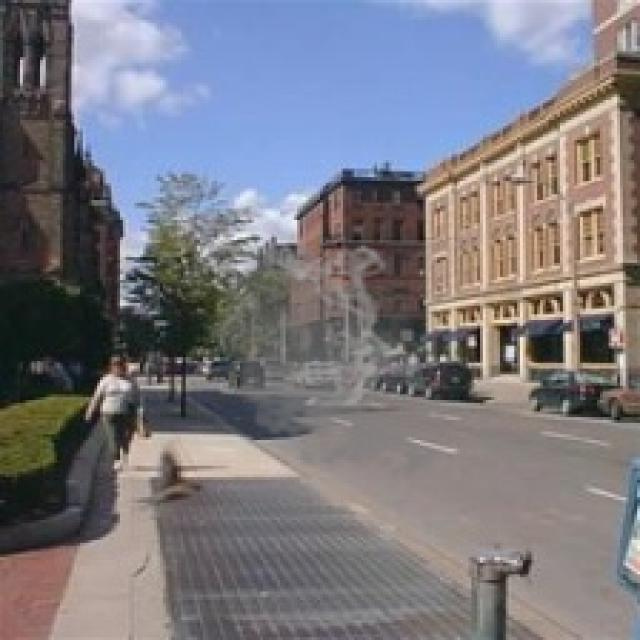smoke: (192, 237, 468, 483)
